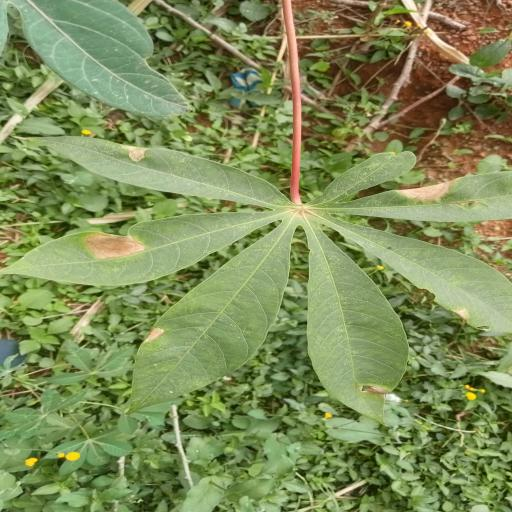Cassava_Root_Rot: (29, 132, 512, 423)
